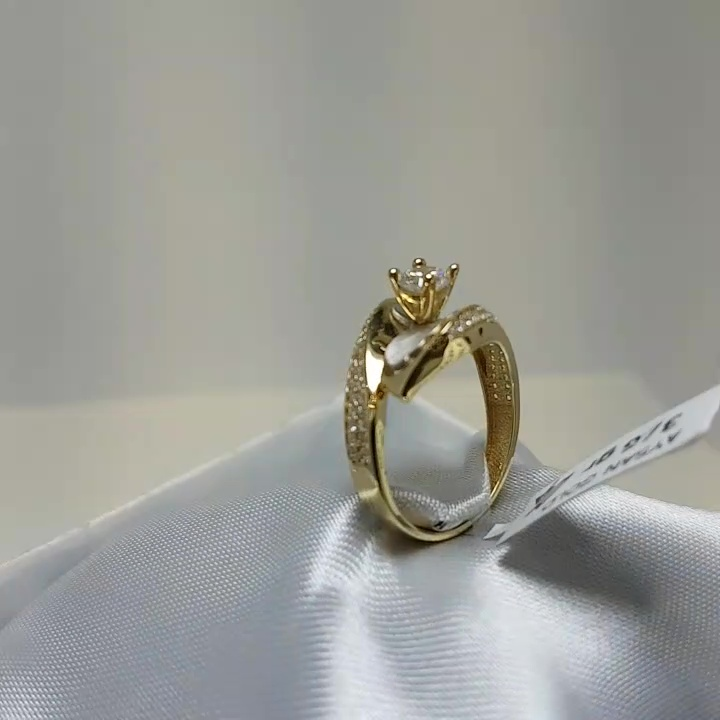Ring 6: (314, 240, 538, 539)
